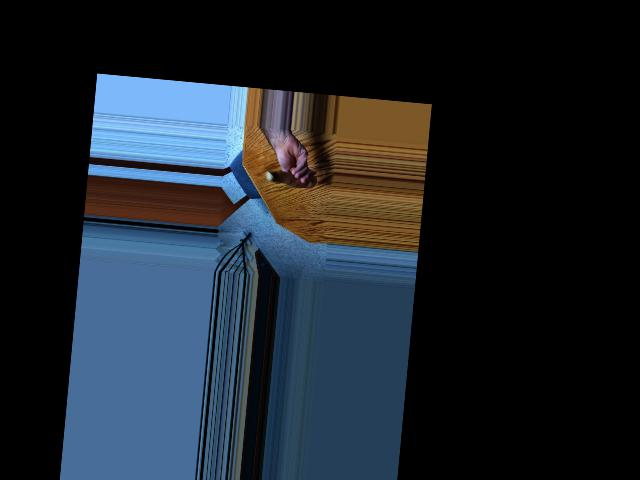sweet_potato: (263, 165, 316, 189)
